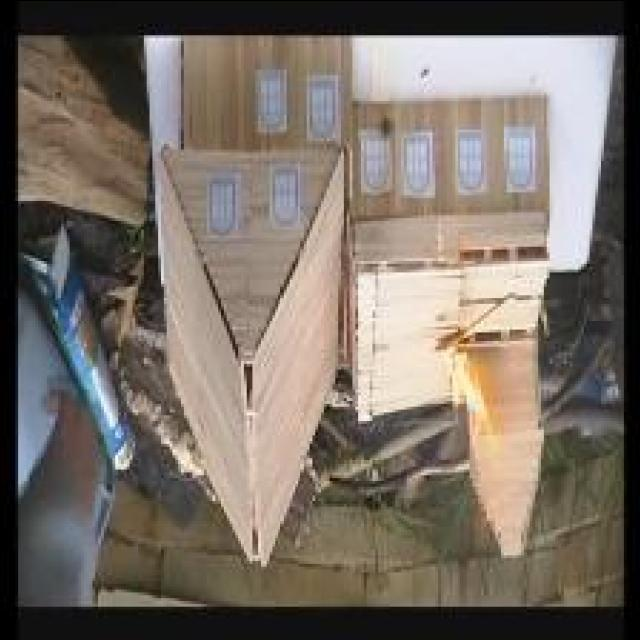Fire: (450, 354, 493, 442)
